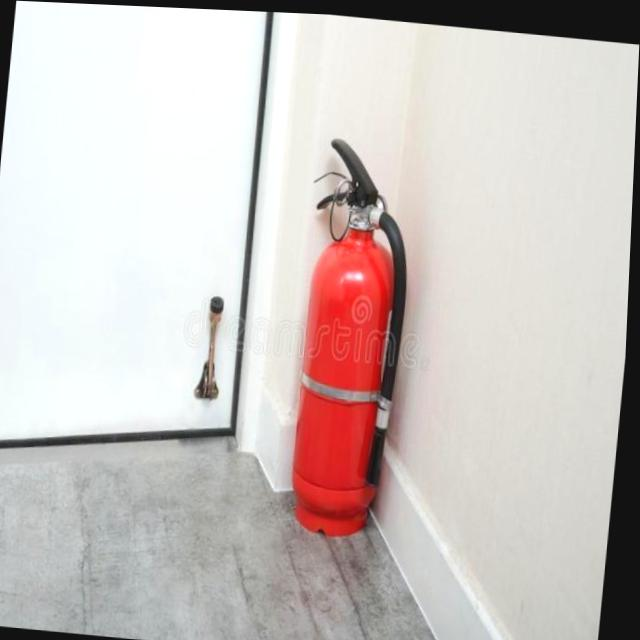FireExtinguisher: (279, 123, 426, 540)
